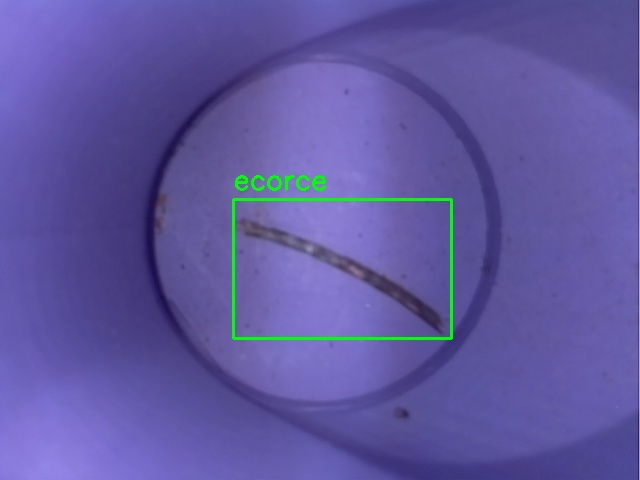ecorce: (233, 199, 451, 338)
